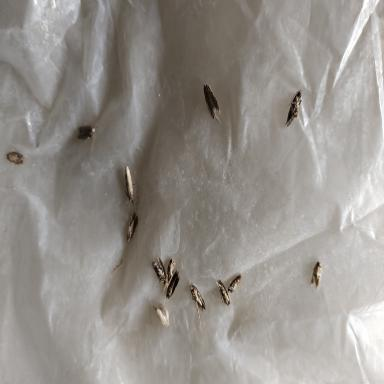pbw: (188, 280, 206, 331), (201, 76, 220, 123), (77, 120, 99, 155), (285, 89, 302, 128), (152, 257, 167, 290), (123, 165, 135, 204), (163, 258, 176, 294), (153, 302, 169, 327), (216, 279, 230, 307), (126, 211, 138, 243), (310, 260, 322, 289), (227, 273, 243, 293), (5, 151, 24, 165)
